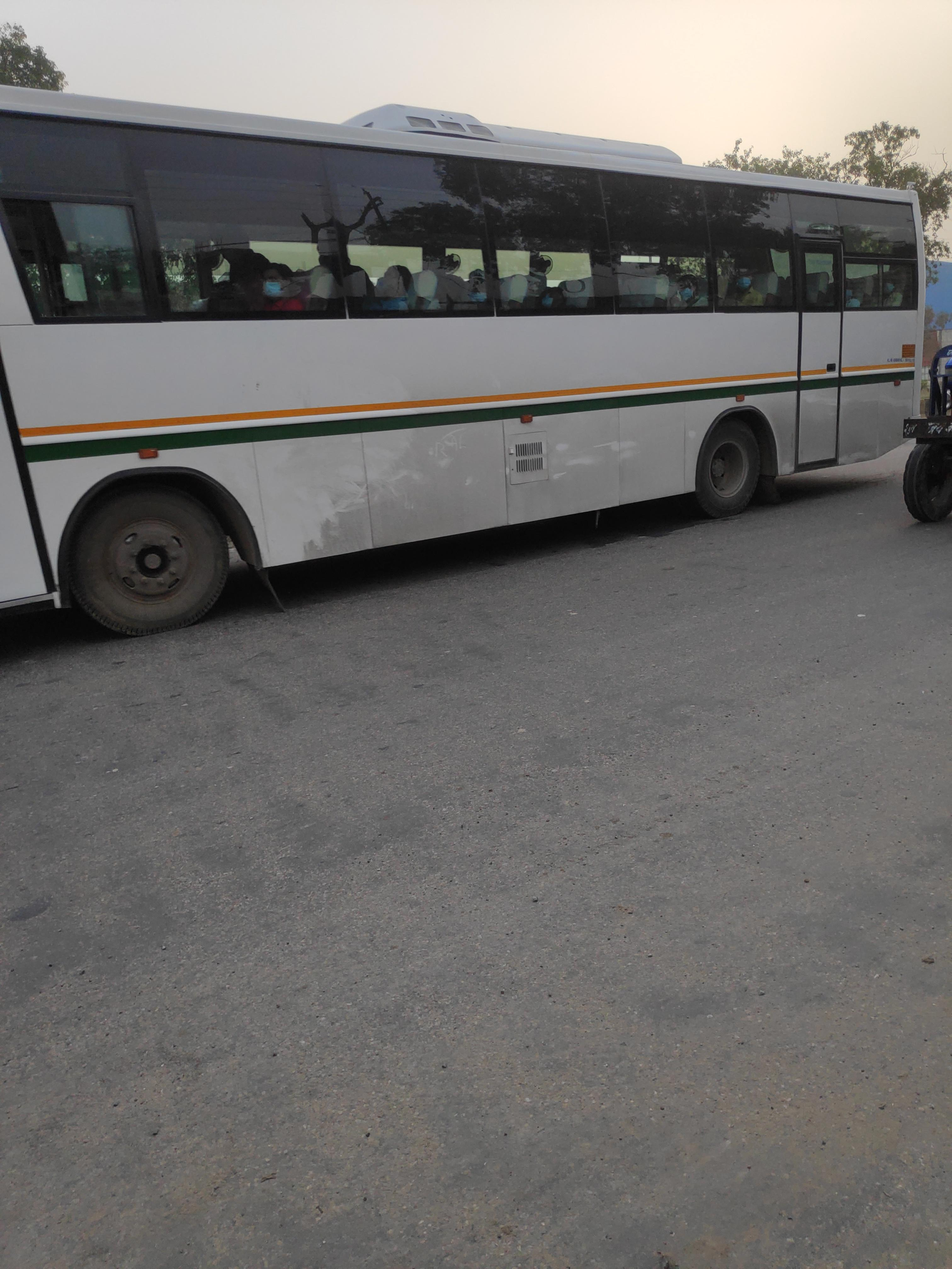Non-emergency: (0, 46, 950, 646)
